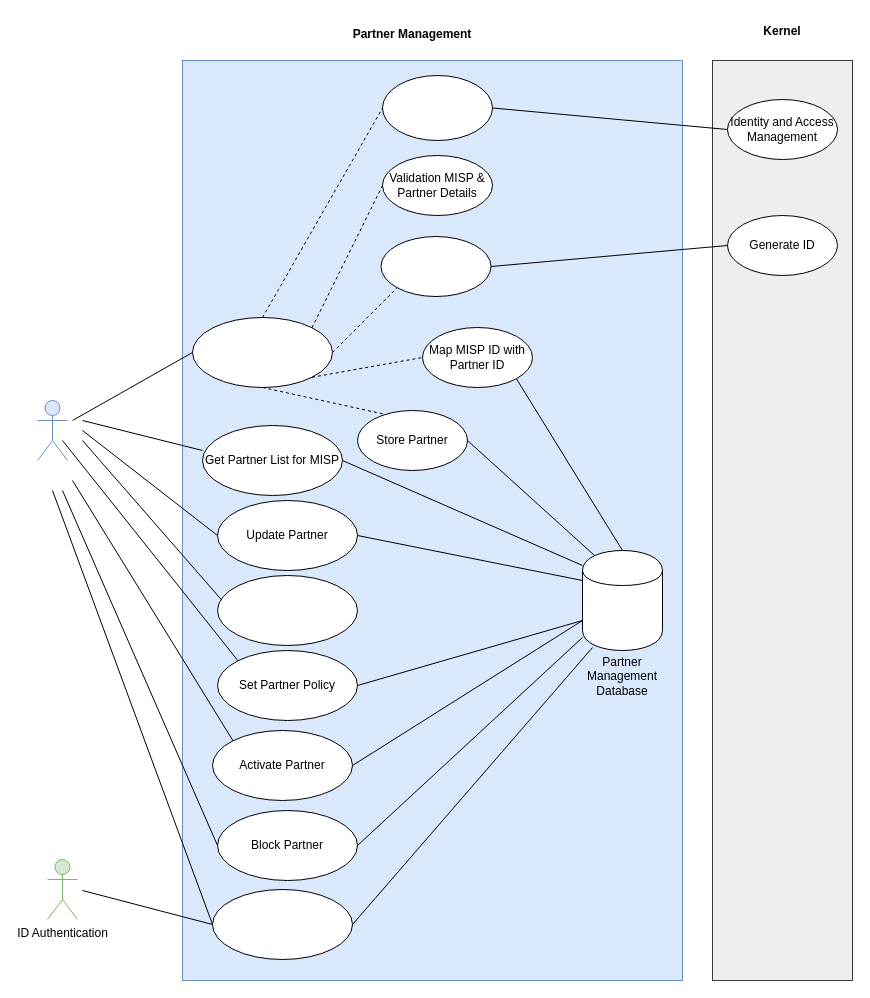
Image size: 870x998. Some labels were removed from this diagram. Each missing label, with the centre of its shape:
Create Partner: point (262, 352)
Get Partner ID: point (435, 266)
Get Partner Policy: point (282, 924)
Lsit Polcy Types before setting for Partners: point (287, 610)
MISP: point (52, 430)
MISP Authentication/ Authorization: point (437, 107)
